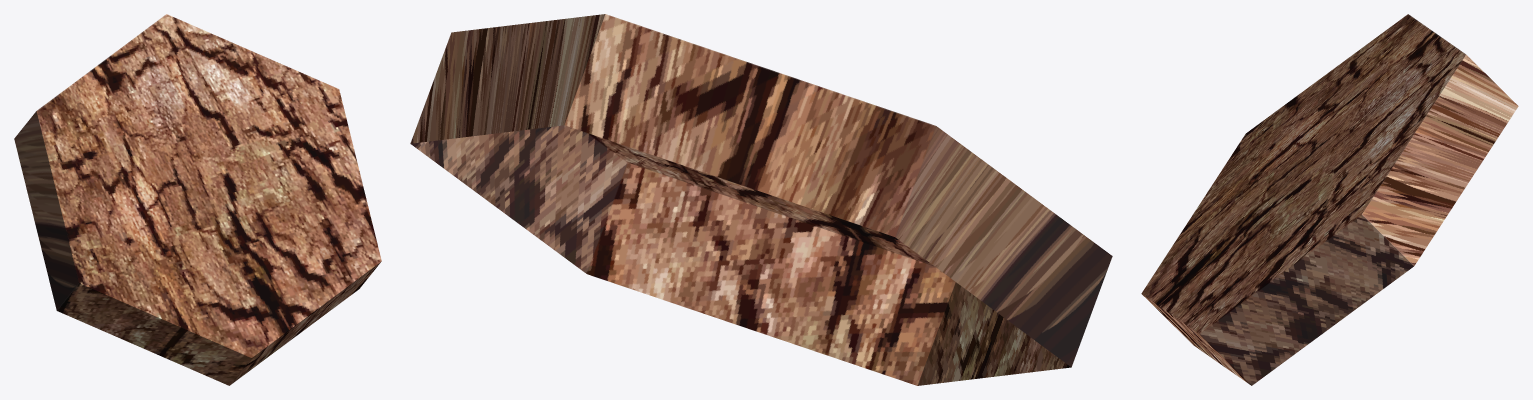
The model's file is Hex.fbx.
3 views of the same model, side by side, from view 1: azimuth 30°, elevation 25°; view 2: azimuth 150°, elevation 25°; view 3: azimuth 270°, elevation 25° (orthographic). The views are drawn at different scales.
Parts seen in each view (by area): view 1: node_id4; view 2: node_id4; view 3: node_id4.
Part boxes in pixels (x1,y1,x2,y2): node_id4: (14,14,381,385); node_id4: (410,14,1112,385); node_id4: (1141,14,1518,385).
Bounding box in the file's own units: 0.5528 × 0.4675 × 0.497.
Materials: 1 (1 with a texture image).
